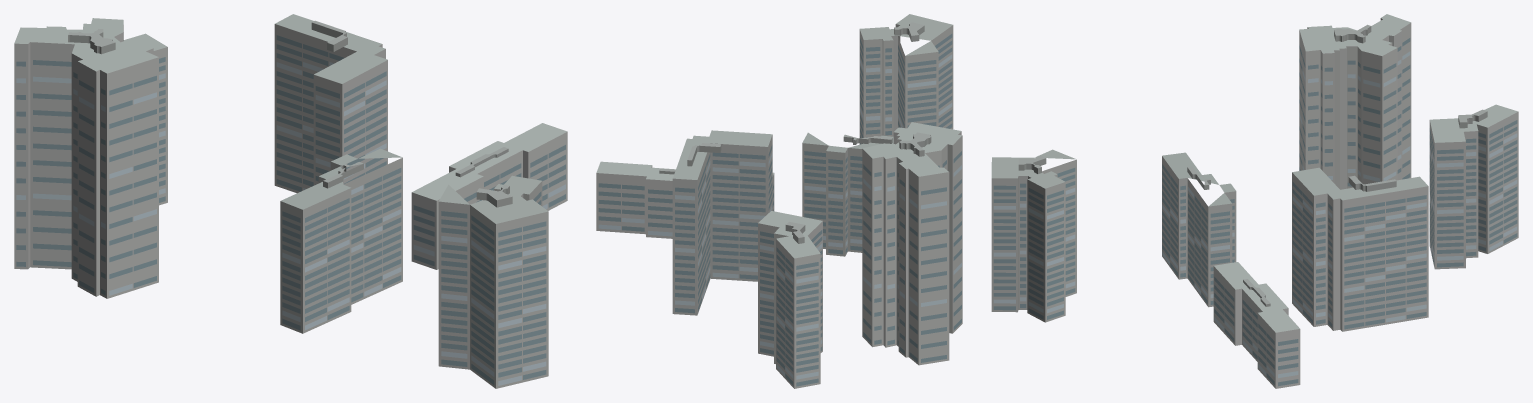
File: apt-a12209001.glb
3 views of the same model, side by side, from view 1: azimuth 30°, elevation 25°; view 2: azimuth 150°, elevation 25°; view 3: azimuth 270°, elevation 25° (orthographic). The views are drawn at different scales.
Parts seen in each view (by area): view 1: apt-a12209001; view 2: apt-a12209001; view 3: apt-a12209001.
Part boxes in pixels (left/top/right/bottom): apt-a12209001: left=14, top=14, right=567, bottom=388; apt-a12209001: left=596, top=14, right=962, bottom=388; apt-a12209001: left=991, top=14, right=1518, bottom=388.
Size of the model in its own units: 168 by 77 by 195.
